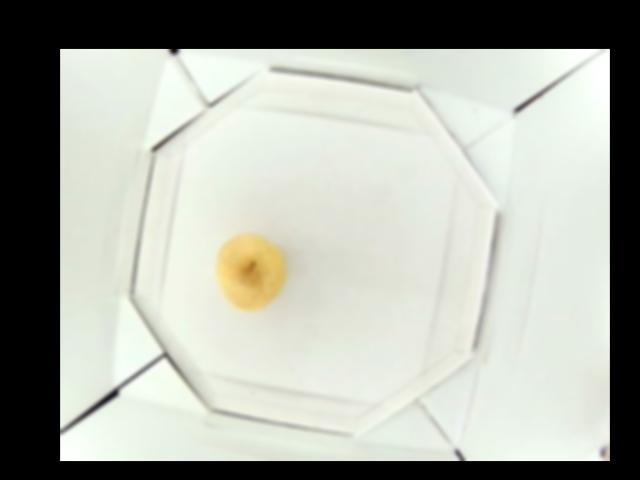Potato: (211, 235, 282, 310)
